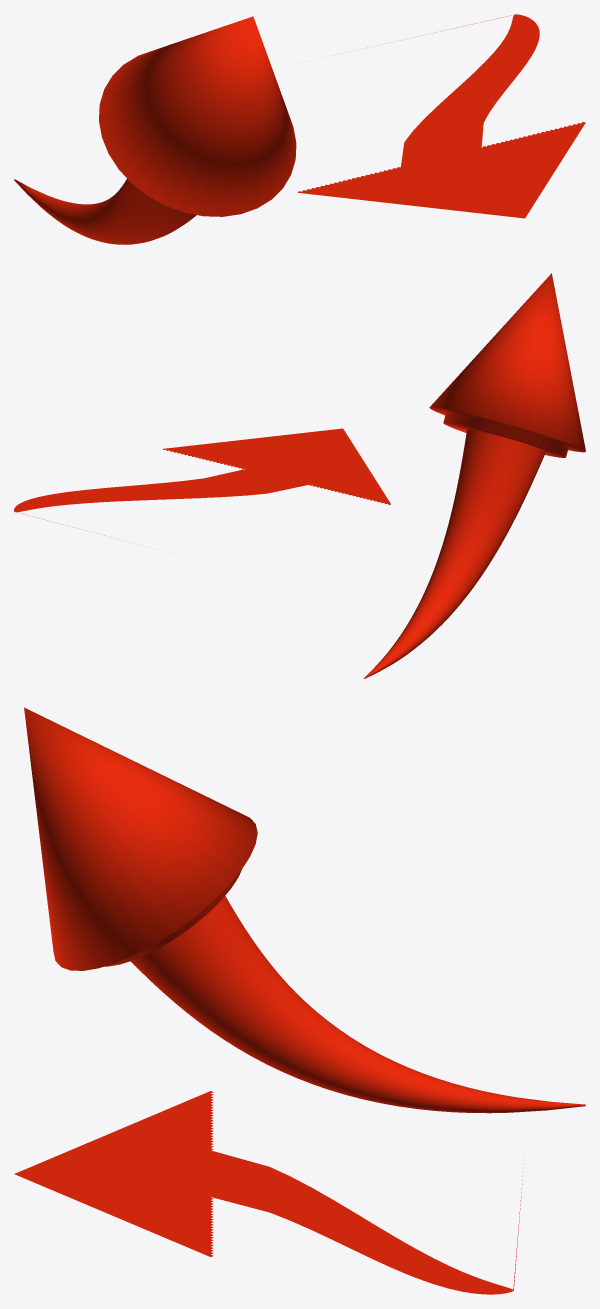
File: red 3d arrow.fbx
3 renders of one model, top to bottom at view 1: azimuth 30°, elevation 25°; view 2: azimuth 150°, elevation 25°; view 3: azimuth 270°, elevation 25°, orthographic. The views are drawn at different scales.
Visible parts, largest first — view 1: Cone, Plane; view 2: Cone, Plane; view 3: Cone, Plane.
Part boxes in pixels (<box>): Cone: <box>14,16,296,244</box>; Plane: <box>298,14,585,218</box>; Cone: <box>364,273,585,678</box>; Plane: <box>14,428,390,535</box>; Cone: <box>24,707,585,1113</box>; Plane: <box>14,1091,524,1294</box>.
Size of the model in its own units: 555 by 321 by 411.
